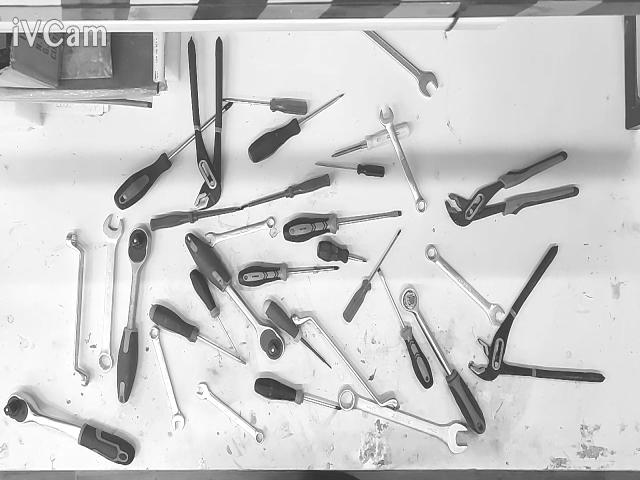Gas wrench: (469, 245, 605, 382), (445, 150, 579, 227), (188, 36, 222, 210)
Ratchet: (400, 287, 486, 434), (185, 233, 284, 359), (4, 393, 135, 465), (116, 227, 150, 403)
Screwdriver: (114, 102, 235, 209), (377, 267, 434, 388), (249, 94, 344, 163), (149, 303, 246, 365), (342, 228, 401, 323), (262, 299, 332, 369), (189, 268, 238, 353), (282, 210, 401, 242), (253, 378, 342, 410), (330, 123, 410, 157), (244, 175, 331, 204), (238, 263, 339, 287), (150, 207, 244, 232), (222, 97, 308, 115), (318, 240, 367, 263), (314, 163, 385, 176)
Wrench: (291, 313, 399, 409), (338, 385, 468, 453), (425, 245, 505, 325), (379, 107, 428, 213), (364, 31, 439, 96), (195, 382, 264, 443), (98, 215, 124, 372), (65, 232, 90, 387), (150, 327, 185, 430), (204, 217, 275, 248)
